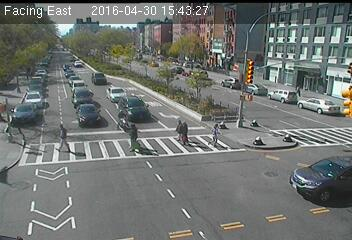neg: (221, 107, 248, 144), (120, 20, 140, 47), (216, 178, 235, 204), (235, 63, 254, 88), (99, 153, 117, 178), (311, 137, 329, 161), (27, 181, 43, 203), (163, 72, 179, 93), (135, 166, 151, 187), (172, 167, 187, 188), (255, 19, 269, 38), (124, 68, 137, 86), (196, 29, 209, 47), (262, 52, 275, 70), (269, 91, 282, 108), (68, 190, 80, 208), (294, 178, 306, 195), (54, 83, 66, 99), (244, 117, 256, 133), (272, 132, 284, 147), (171, 172, 183, 187), (92, 36, 103, 52), (30, 78, 41, 93), (333, 46, 344, 61), (84, 98, 95, 112), (160, 32, 171, 46), (223, 35, 234, 49), (116, 185, 126, 198), (302, 22, 312, 35), (294, 62, 303, 74), (266, 73, 274, 85), (62, 55, 70, 66)
pos: (48, 122, 74, 156), (202, 122, 227, 156), (120, 122, 145, 155), (175, 120, 194, 144), (170, 115, 188, 139), (296, 83, 304, 94)
